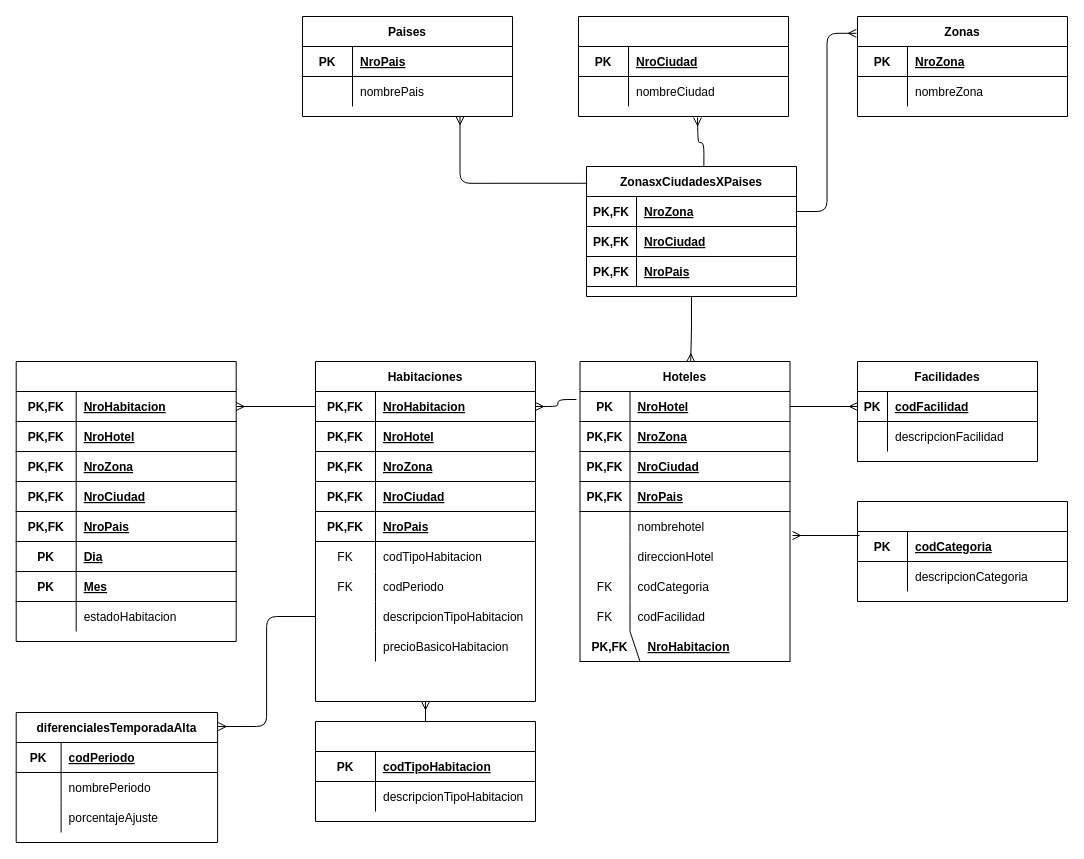
Some shapes in this 1084 by 859 pixel diagram are drawn without their labels. The box of each missing label's shape, as (x1, y1, x2, y2) in pixels:
Categorias: (856, 500, 1068, 602)
Ciudades: (578, 16, 788, 116)
Disponibilidades: (15, 360, 236, 642)
TiposHabitaciones: (314, 720, 536, 822)
